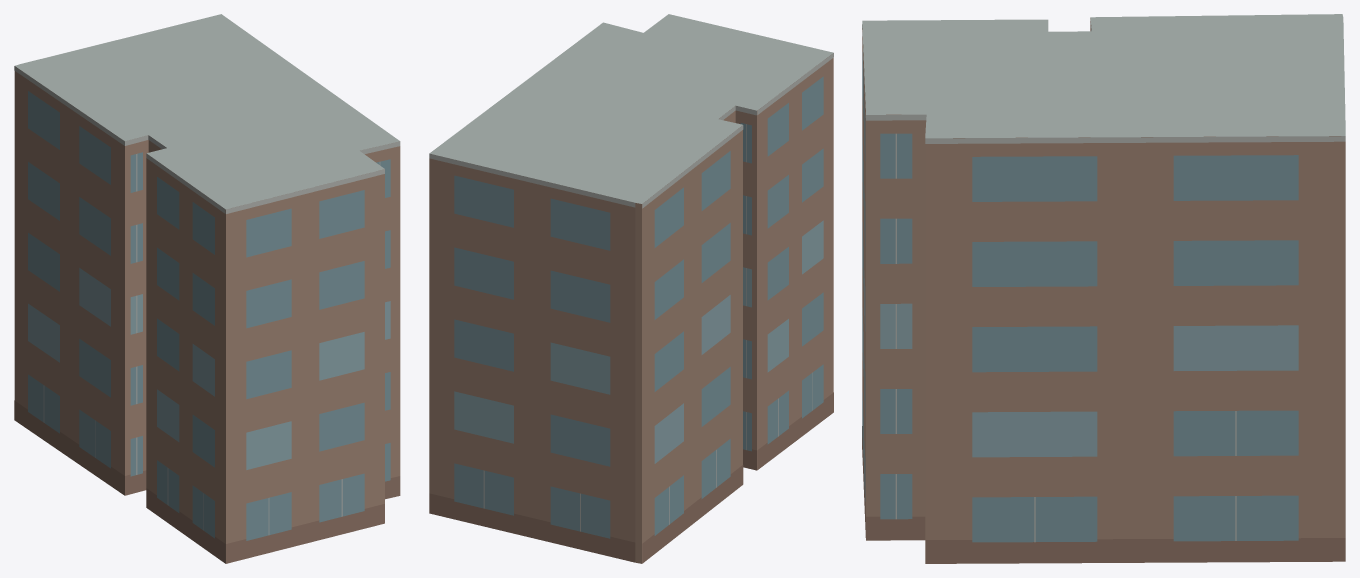
Rendered from survey-upis-32700546.glb.
3 renders of one model, left to right at view 1: azimuth 30°, elevation 25°; view 2: azimuth 150°, elevation 25°; view 3: azimuth 270°, elevation 25°, orthographic. The views are drawn at different scales.
Parts seen in each view (by area): view 1: survey-upis-32700546.tmp; view 2: survey-upis-32700546.tmp; view 3: survey-upis-32700546.tmp.
Boxes of the visible parts, left/top/right/bottom form: survey-upis-32700546.tmp: left=14, top=14, right=400, bottom=563; survey-upis-32700546.tmp: left=429, top=14, right=833, bottom=563; survey-upis-32700546.tmp: left=862, top=14, right=1345, bottom=563.
Bounding box in the file's own units: 11.37 × 18.15 × 18.7.
